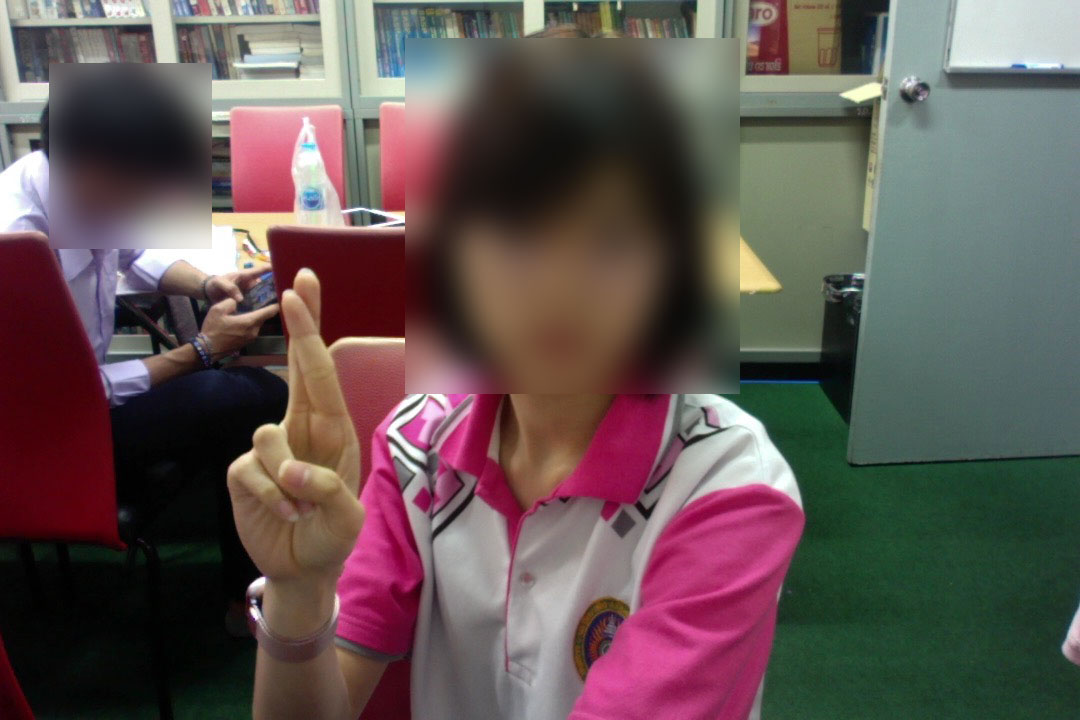rao: (215, 275, 412, 591)
